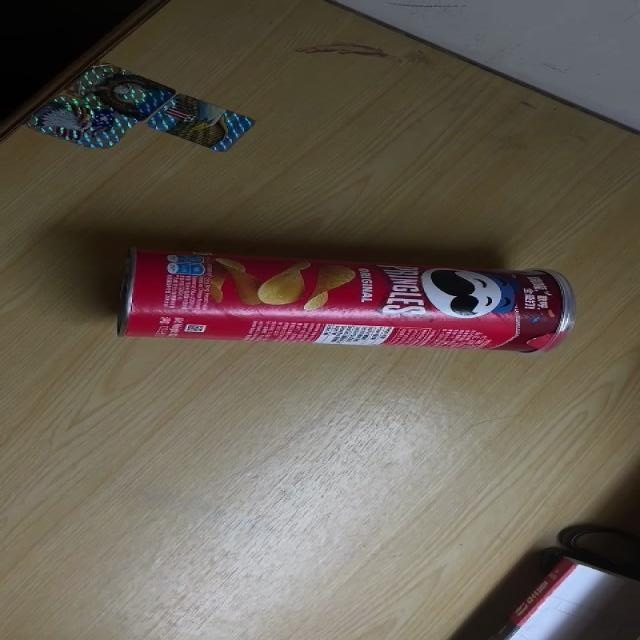Pringles: (112, 250, 576, 354)
